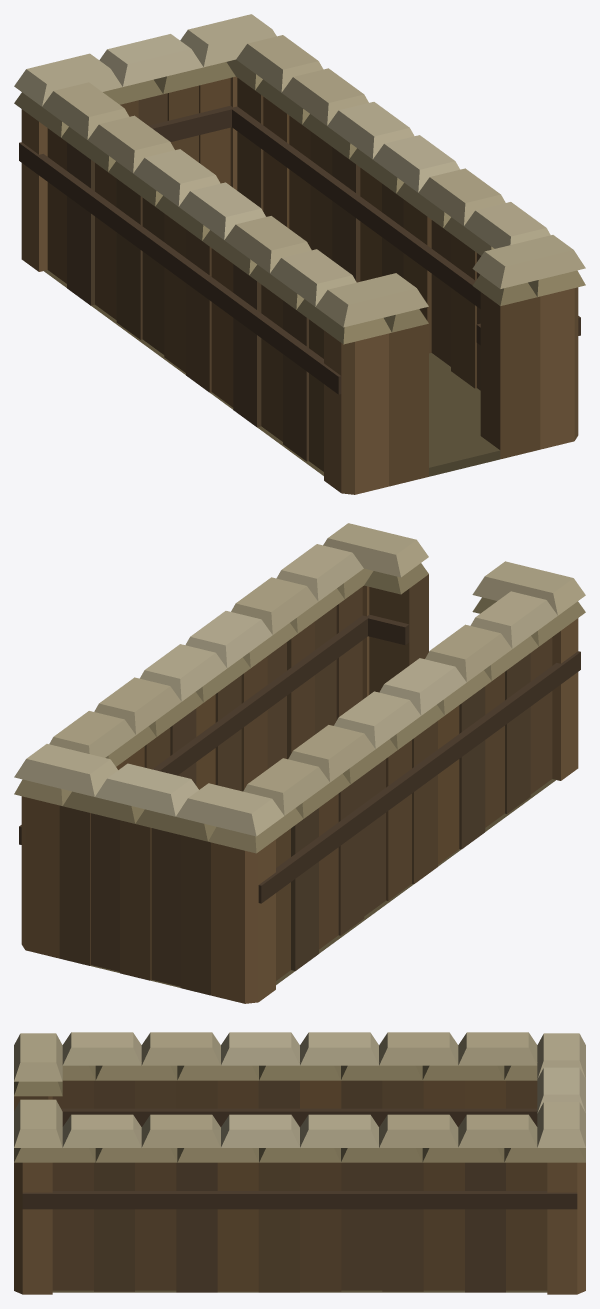
File: revetted-trench-section-2603a5.glb
The picture shows the model from 3 angles, top to bottom: view 1: azimuth 30°, elevation 25°; view 2: azimuth 150°, elevation 25°; view 3: azimuth 270°, elevation 25°; orthographic projection. The views are drawn at different scales.
Visible parts, largest first — view 1: trench; view 2: trench; view 3: trench.
Part boxes in pixels (x1,y1,x2,y2): trench: [14, 14, 585, 494]; trench: [14, 523, 585, 1003]; trench: [14, 1032, 585, 1294].
Size of the model in its own units: 1.7 by 1.26 by 4.
